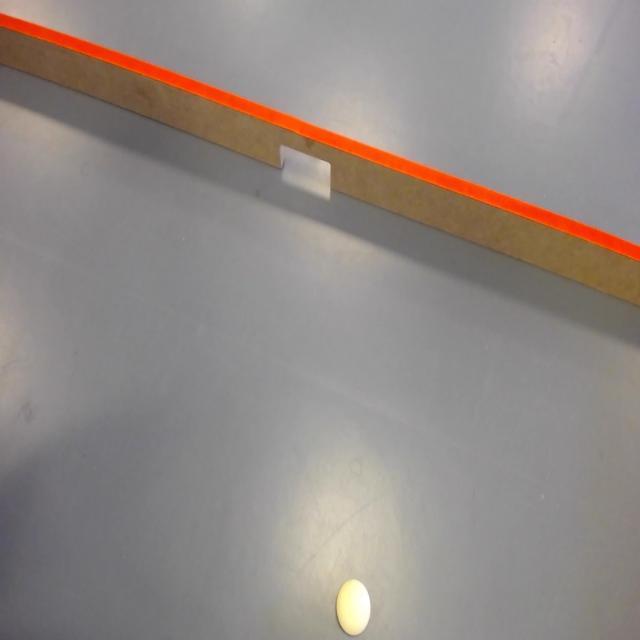white: (335, 579, 373, 638)
